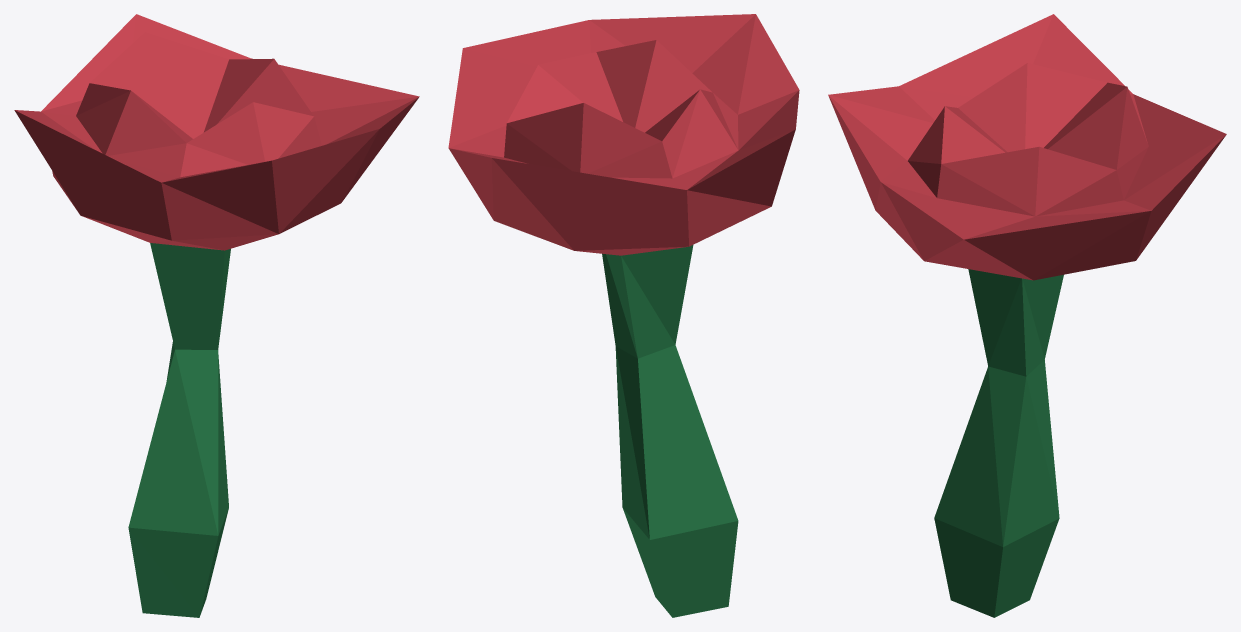
Rendered from SM_Env_Flower_01-optimized.glb.
3 renders of one model, left to right at view 1: azimuth 30°, elevation 25°; view 2: azimuth 150°, elevation 25°; view 3: azimuth 270°, elevation 25°, orthographic. The views are drawn at different scales.
Parts seen in each view (by area): view 1: SM_Env_Flower_01.001; view 2: SM_Env_Flower_01.001; view 3: SM_Env_Flower_01.001.
Boxes of the visible parts, x1,y1,x2,y2 form: SM_Env_Flower_01.001: (14,14,419,617); SM_Env_Flower_01.001: (448,14,799,617); SM_Env_Flower_01.001: (828,14,1226,617).
Size of the model in its own units: 2.34 by 3.21 by 2.18.
Materials: 1 (1 with a texture image).
